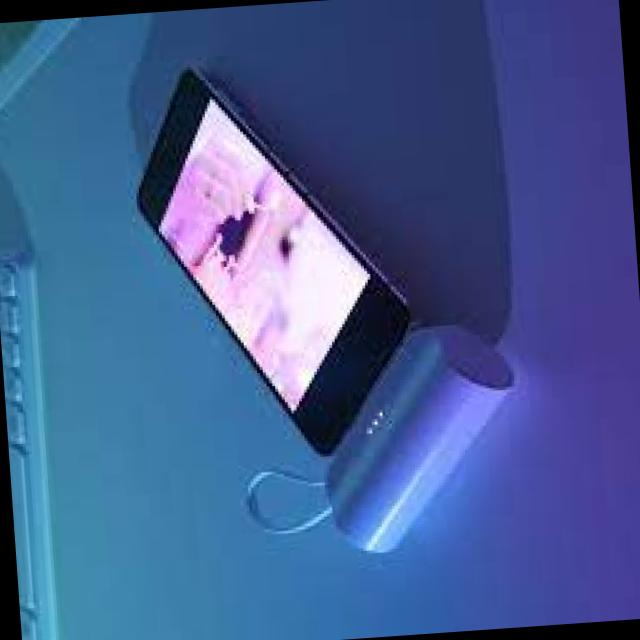portable-charger: (305, 306, 531, 556)
